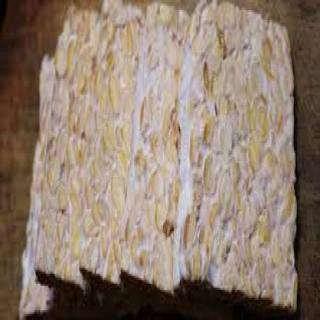Tempe: (16, 2, 299, 319)
